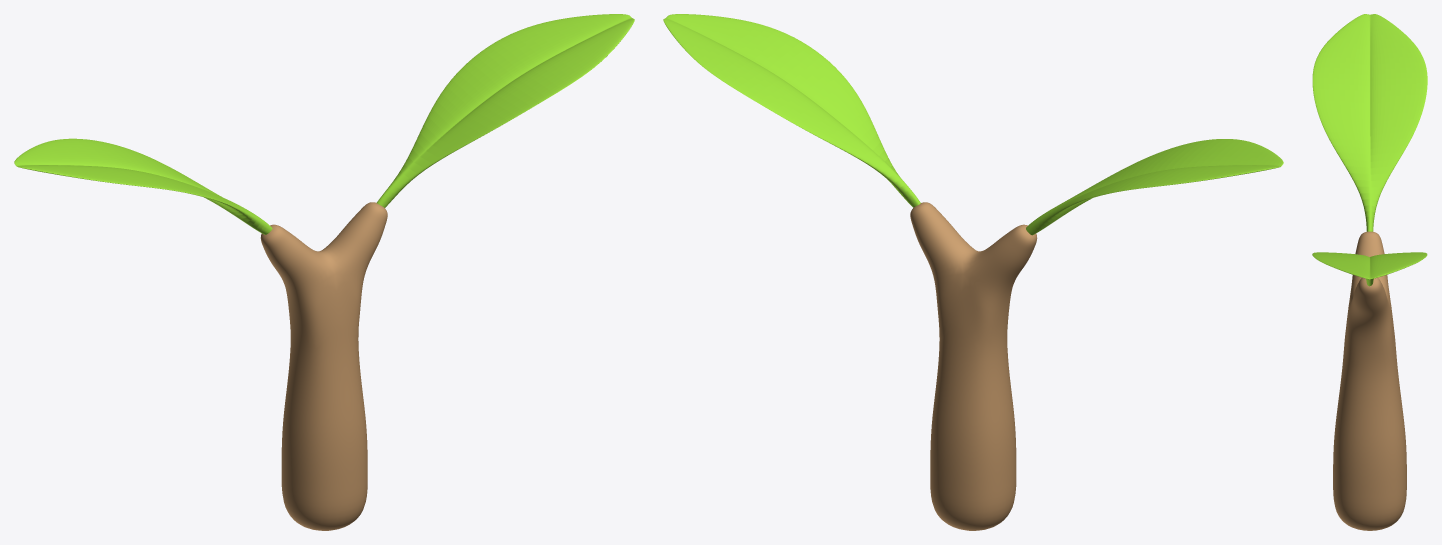
The model's file is tree-1.glb.
The picture shows the model from 3 angles, left to right: view 1: azimuth 30°, elevation 25°; view 2: azimuth 150°, elevation 25°; view 3: azimuth 270°, elevation 25°; orthographic projection. The views are drawn at different scales.
Visible parts, largest first — view 1: Trunk_Lv1, Leaf_2B, Leaf_1A; view 2: Trunk_Lv1, Leaf_2B, Leaf_1A; view 3: Trunk_Lv1, Leaf_1A, Leaf_2B.
Part boxes in pixels (box(x1,y1,x2,y2)): Trunk_Lv1: box(260, 202, 387, 530); Leaf_2B: box(377, 14, 634, 207); Leaf_1A: box(14, 138, 272, 234); Trunk_Lv1: box(910, 202, 1037, 530); Leaf_2B: box(663, 14, 920, 207); Leaf_1A: box(1026, 139, 1283, 235); Trunk_Lv1: box(1333, 231, 1406, 530); Leaf_1A: box(1312, 14, 1427, 231); Leaf_2B: box(1312, 252, 1427, 286).
Size of the model in its own units: 1.56 by 1.05 by 0.2885.
